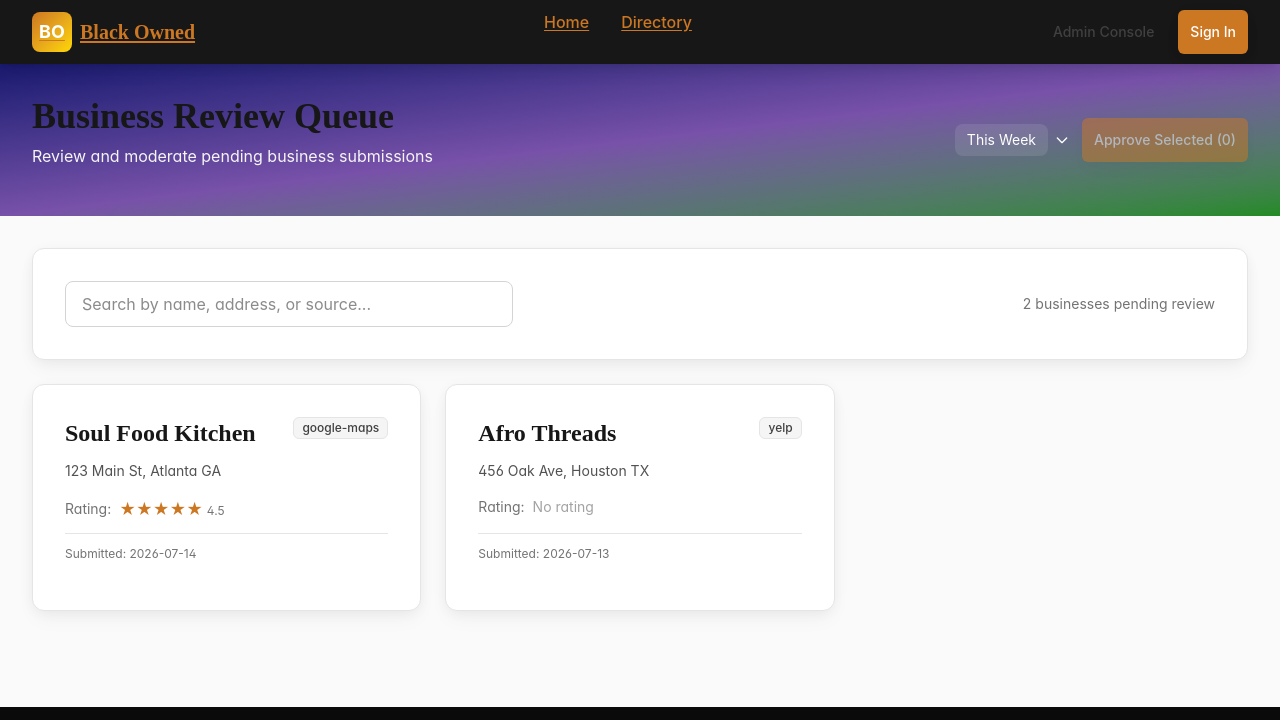
Test: BusinessReviewPage › single-business decisions › shows an error banner when the approve request fails
Click the heading "Soul Food Kitchen".
click(160, 433)  # box [65, 417, 256, 449]
(page scrolled)
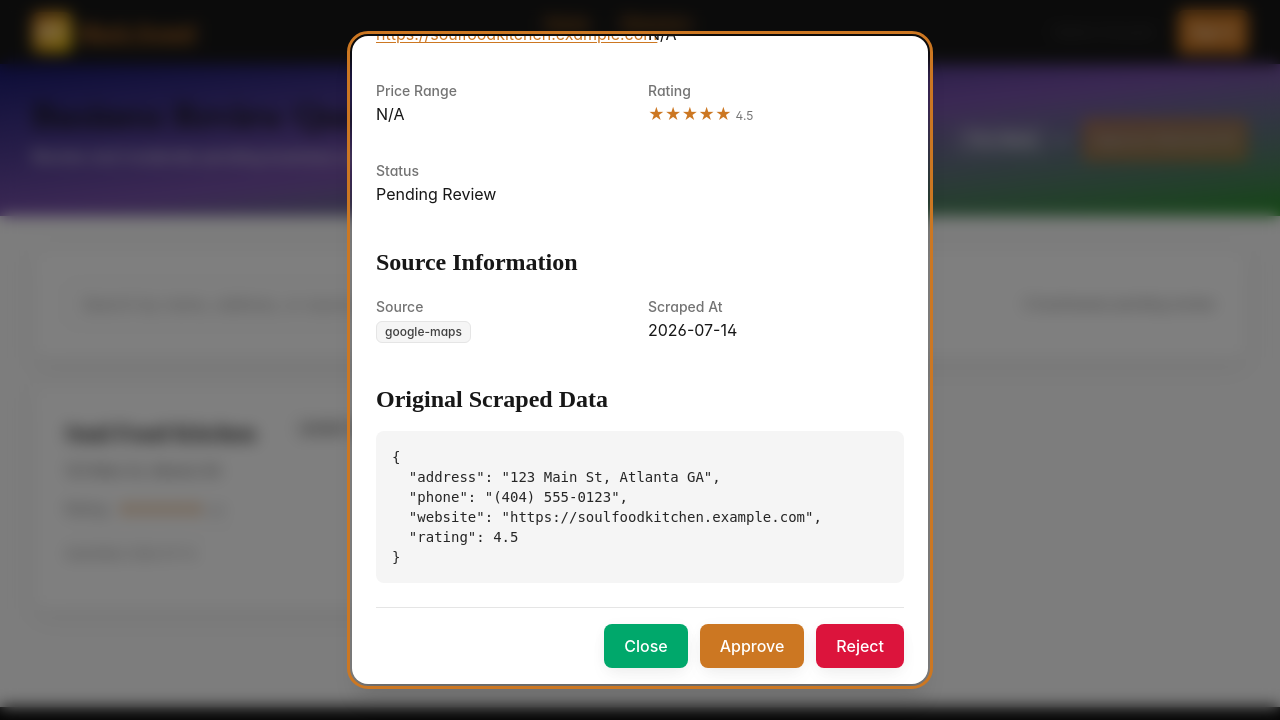
Expected: the dialog is shown
Click the button "Approve".
click(752, 646)  # box [700, 624, 804, 668]
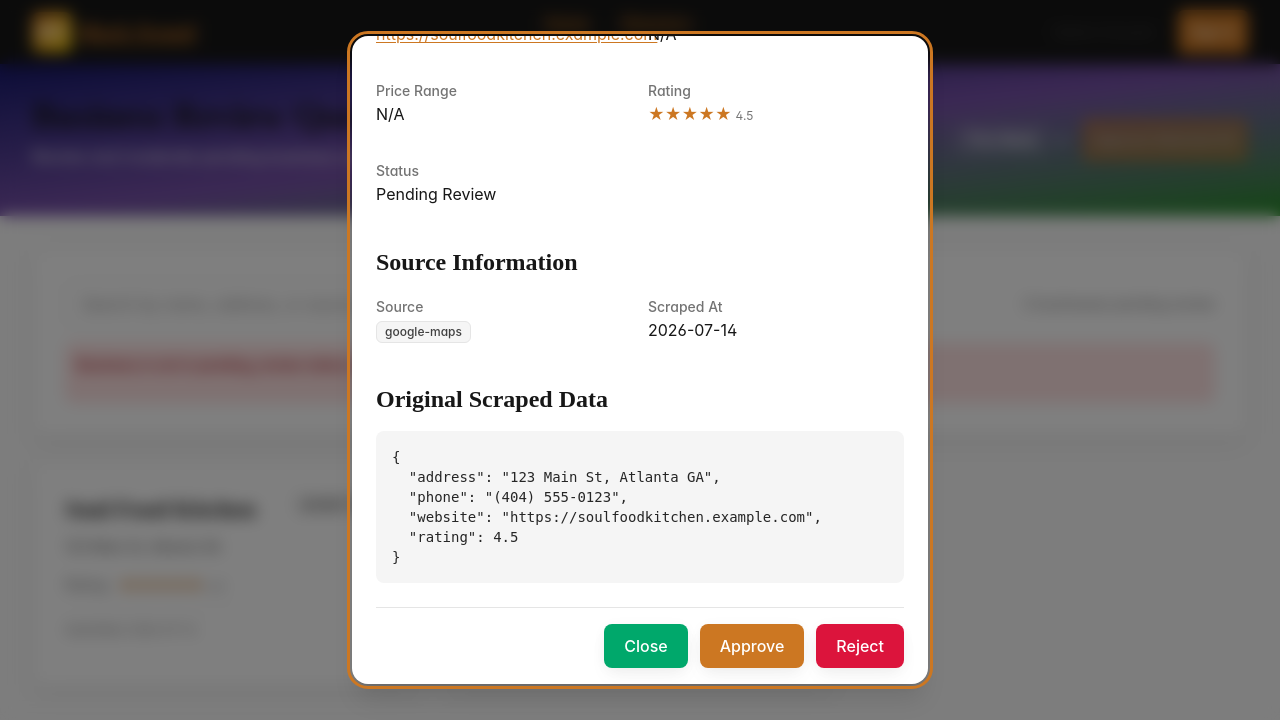
Expected: the text "Business is not in pending_review status" is shown, [77, 356, 528, 373]
